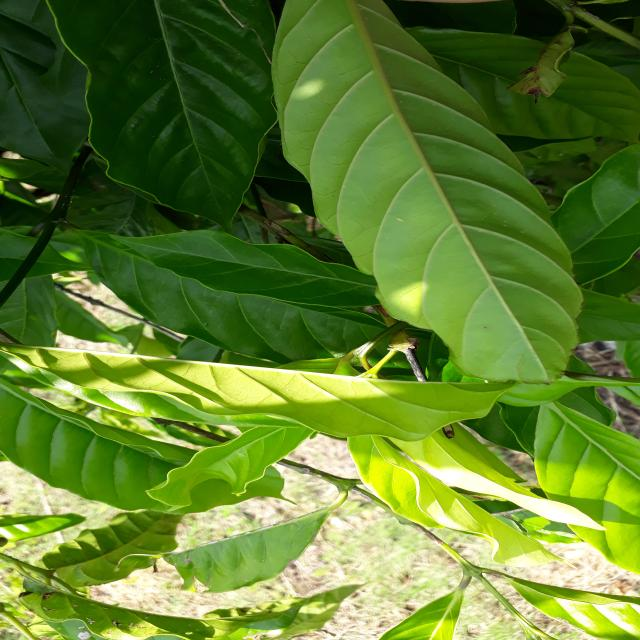Sanas: (271, 0, 583, 385)
